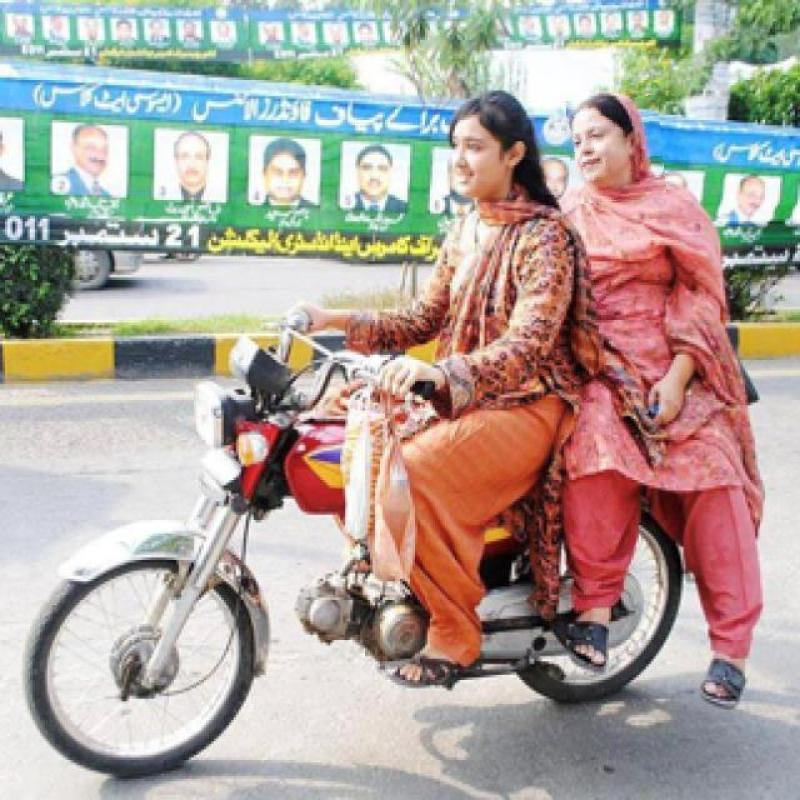nohelmet: (434, 96, 535, 215), (567, 97, 664, 203)
